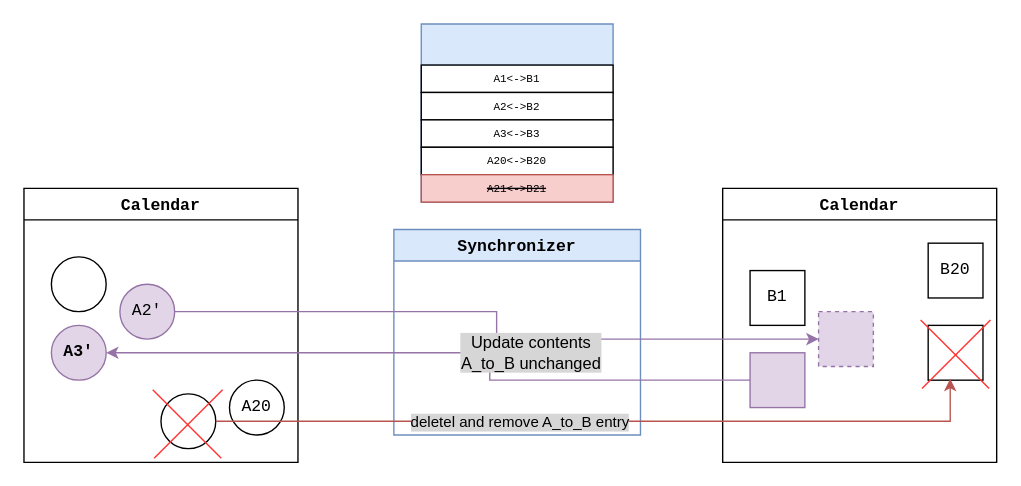
This 1021x486 diagram has some shape labels left out. The shapes that lost their labels are listed below. From the top down, each one's box as (x1, y1, x2, y2) in pixels, then its label:
(420, 23, 613, 202): A_to_B (bidict)
(50, 256, 106, 312): A1
(817, 310, 873, 366): B2'
(927, 324, 983, 380): B21
(749, 351, 805, 408): B3'
(160, 393, 216, 449): A21
